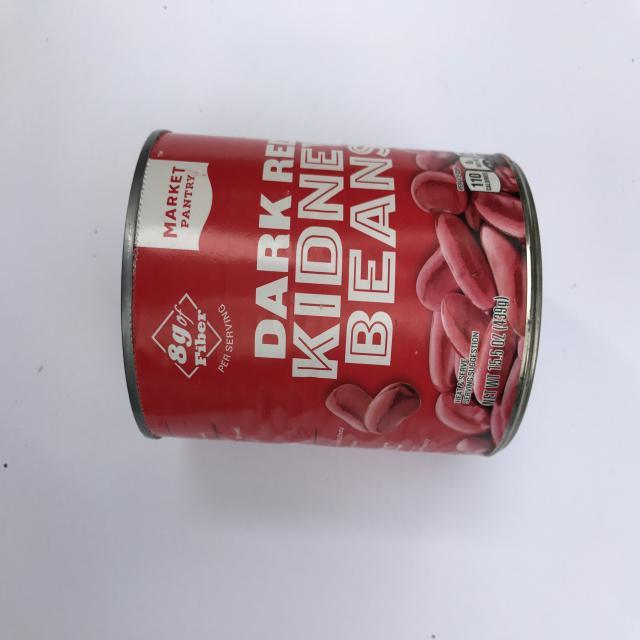metal: (119, 128, 543, 462)
